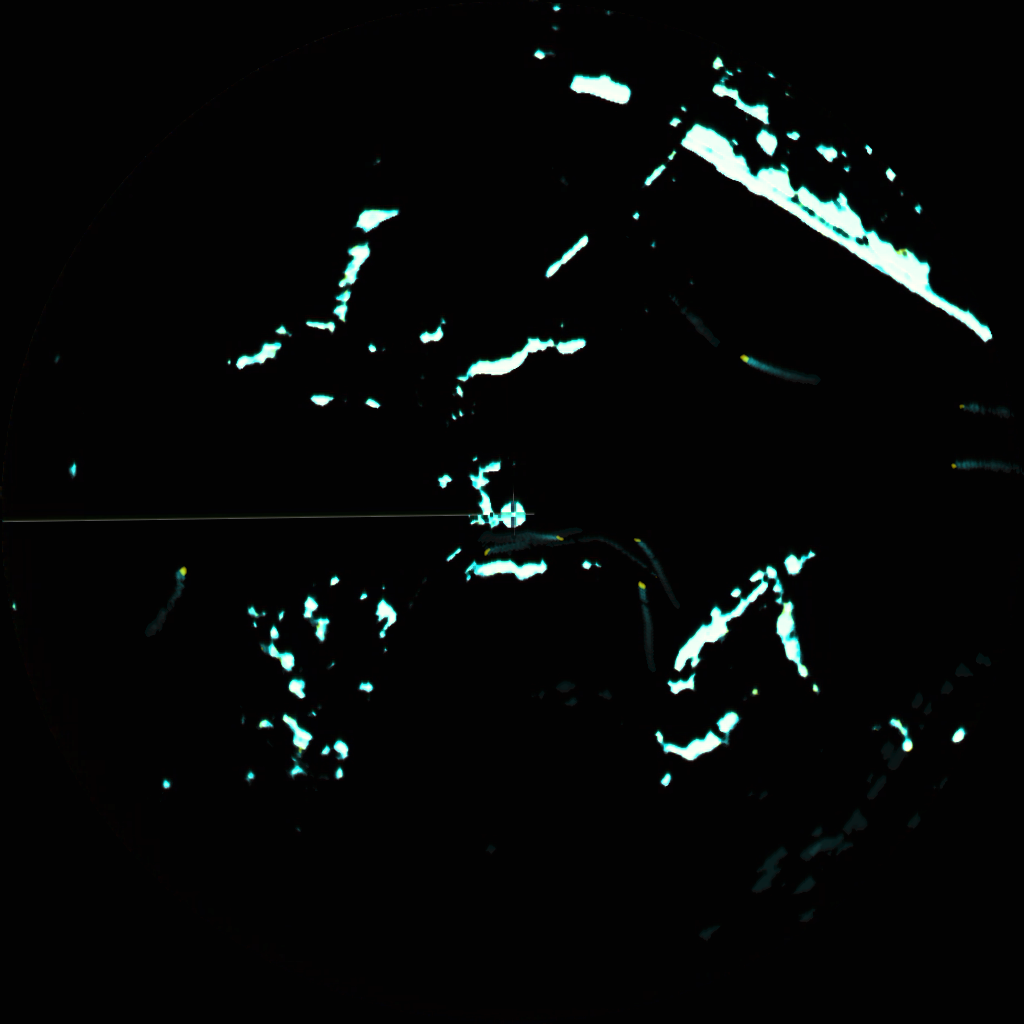B: (163, 563, 190, 622), (738, 352, 797, 378), (633, 535, 665, 581), (633, 580, 657, 638), (948, 457, 1011, 472), (481, 541, 533, 555), (958, 400, 1005, 415), (514, 531, 568, 541)
